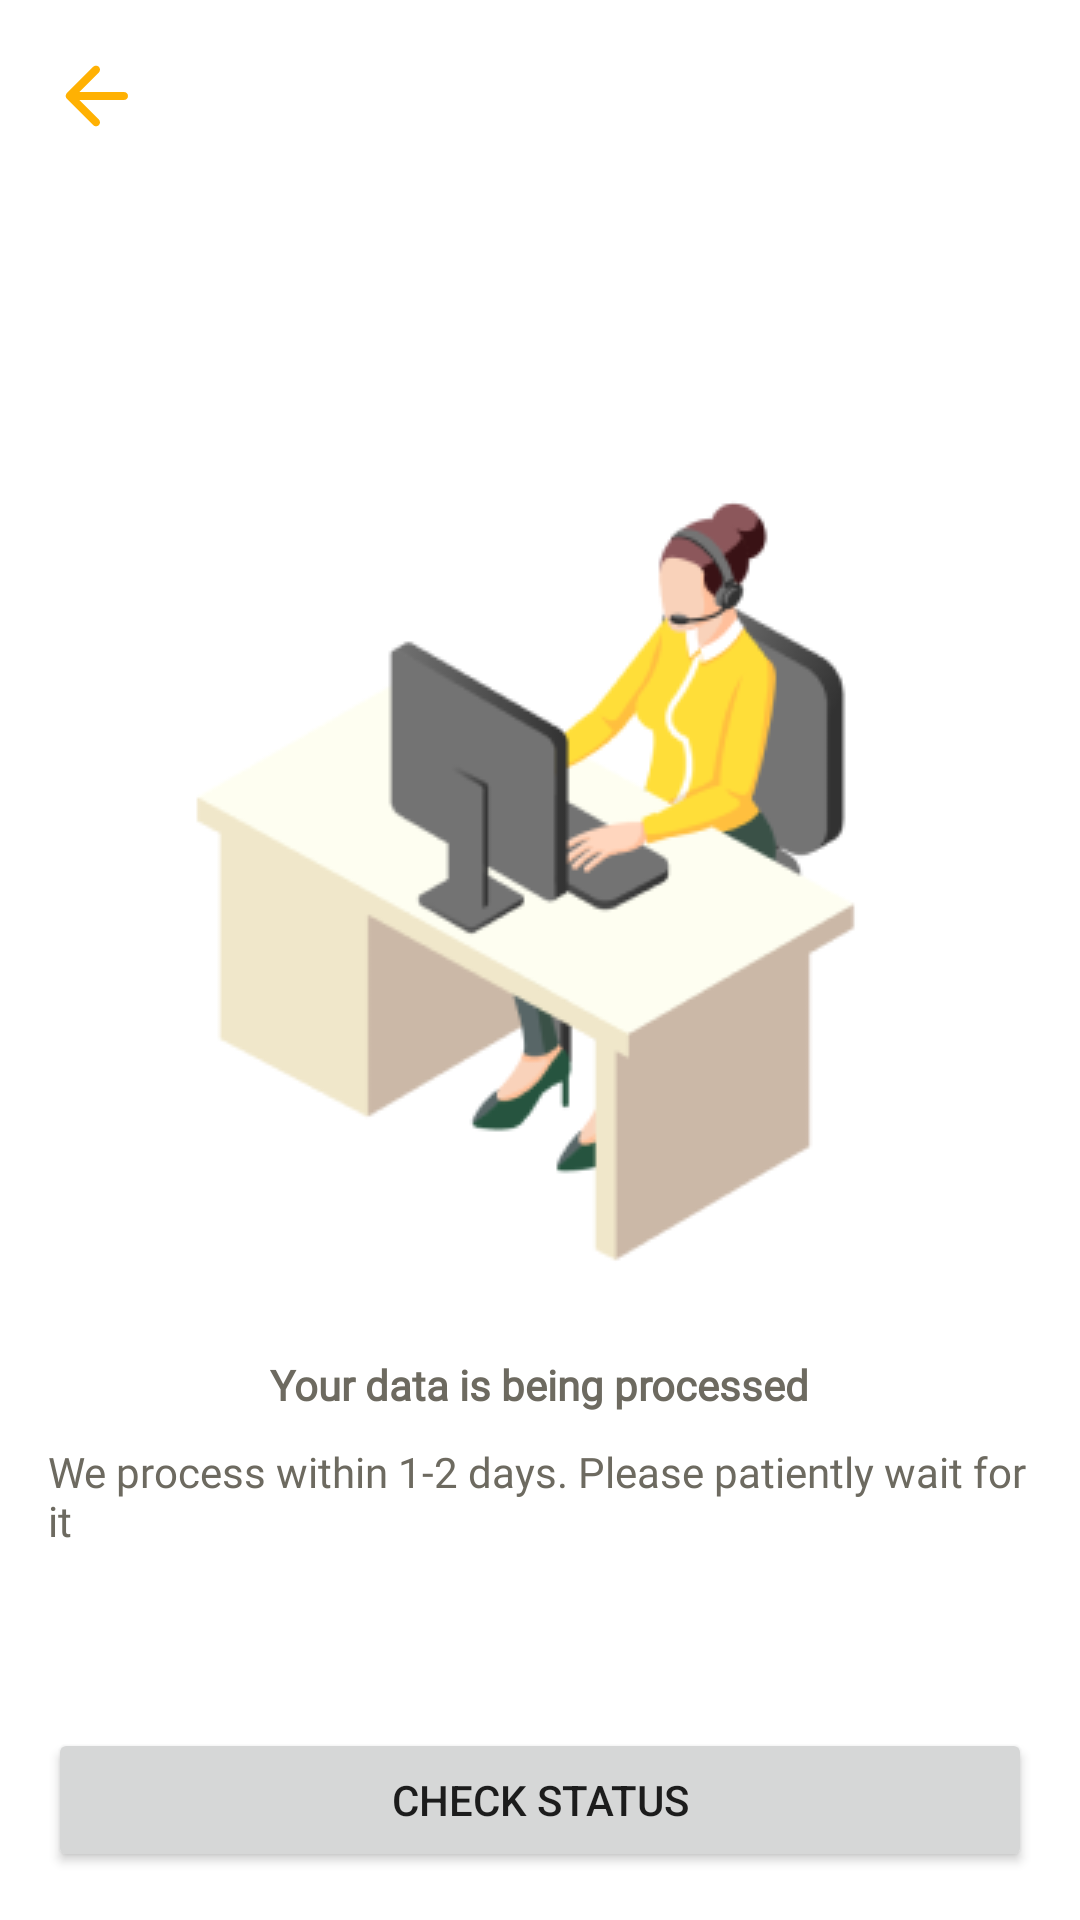

Locate icon controls on the screen. Image size 1080×1920, boxes as (x1, y1, x2, y2).
back: (65, 65, 128, 127)
